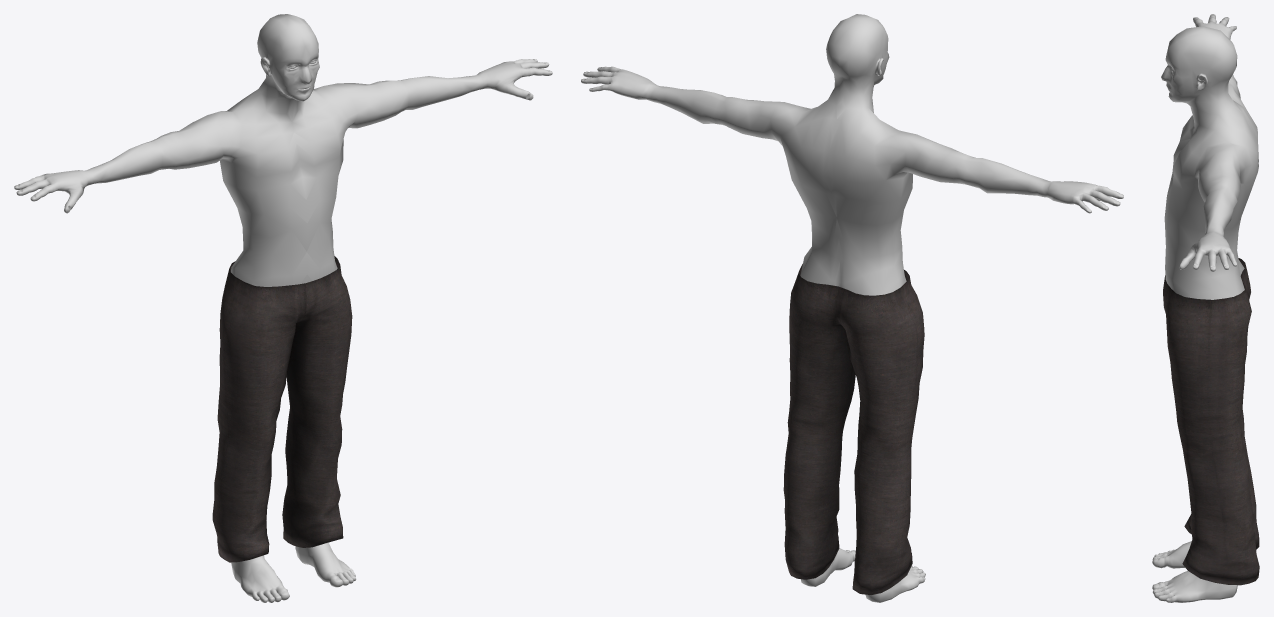
File: Body_With_Pants.gltf
The picture shows the model from 3 angles, left to right: view 1: azimuth 30°, elevation 25°; view 2: azimuth 150°, elevation 25°; view 3: azimuth 270°, elevation 25°; orthographic projection. The views are drawn at different scales.
Visible parts, largest first — view 1: BaseMesh_Man_Simple_Body.001, Pants; view 2: BaseMesh_Man_Simple_Body.001, Pants; view 3: BaseMesh_Man_Simple_Body.001, Pants.
Boxes of the visible parts, left/top/right/bottom form: BaseMesh_Man_Simple_Body.001: left=14, top=14, right=552, bottom=602; Pants: left=212, top=256, right=352, bottom=562; BaseMesh_Man_Simple_Body.001: left=581, top=14, right=1123, bottom=602; Pants: left=783, top=264, right=924, bottom=594; BaseMesh_Man_Simple_Body.001: left=1152, top=14, right=1258, bottom=602; Pants: left=1163, top=258, right=1259, bottom=585.
Bounding box in the file's own units: 1.8 × 1.81 × 0.3204.
Materials: 2 (1 with a texture image).
